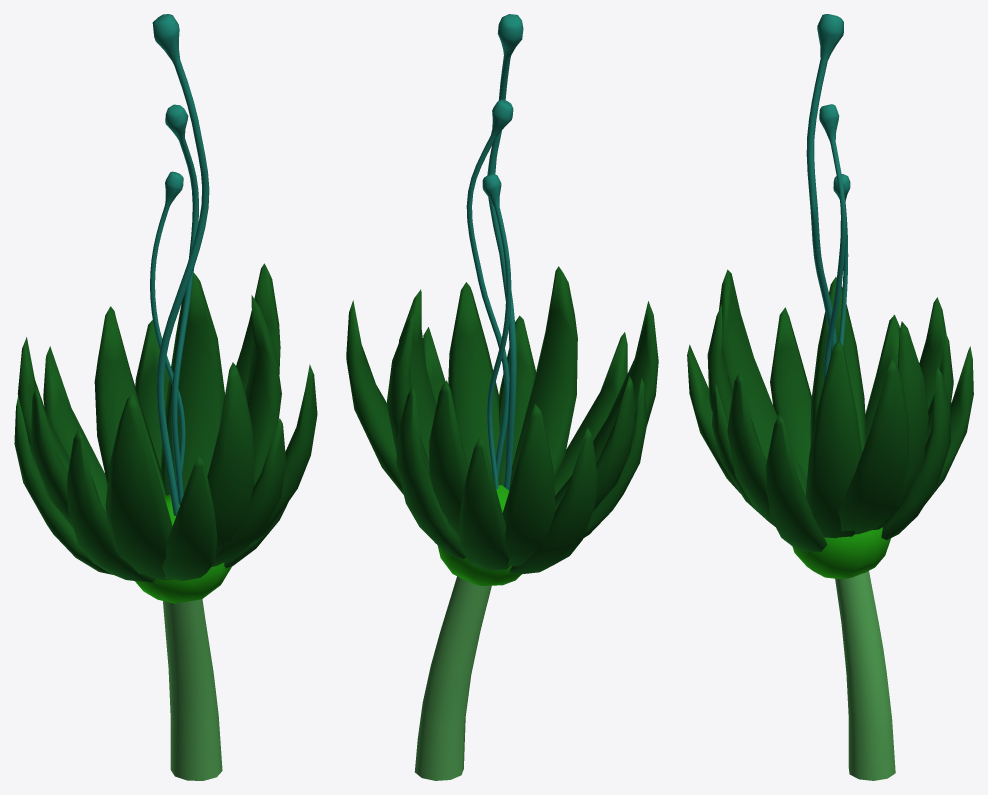
The model's file is plant_10.fbx.
3 views of the same model, side by side, from view 1: azimuth 30°, elevation 25°; view 2: azimuth 150°, elevation 25°; view 3: azimuth 270°, elevation 25° (orthographic). The views are drawn at different scales.
Parts seen in each view (by area): view 1: plant_10; view 2: plant_10; view 3: plant_10.
Boxes of the visible parts, x1,y1,x2,y2 form: plant_10: (14, 14, 317, 780); plant_10: (346, 14, 658, 780); plant_10: (687, 14, 973, 780).
Bounding box in the file's own units: 0.4524 × 0.4467 × 1.26.
